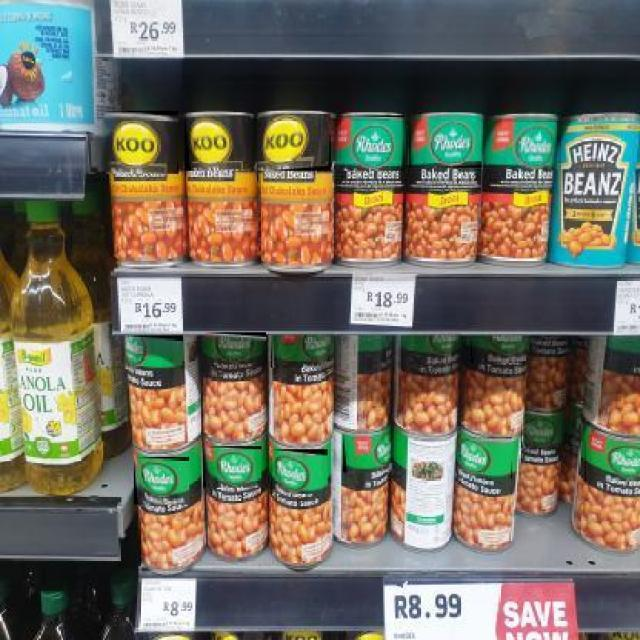Beans: (103, 111, 180, 175), (257, 115, 333, 173), (184, 114, 253, 172), (409, 116, 483, 170), (337, 116, 406, 173), (485, 120, 561, 171), (134, 457, 191, 506), (271, 450, 329, 496), (400, 332, 462, 374), (585, 435, 639, 483), (203, 446, 263, 489), (458, 437, 514, 480), (271, 333, 335, 369), (123, 335, 185, 371), (203, 332, 267, 366), (343, 432, 394, 474), (471, 336, 528, 365), (520, 417, 562, 449)
